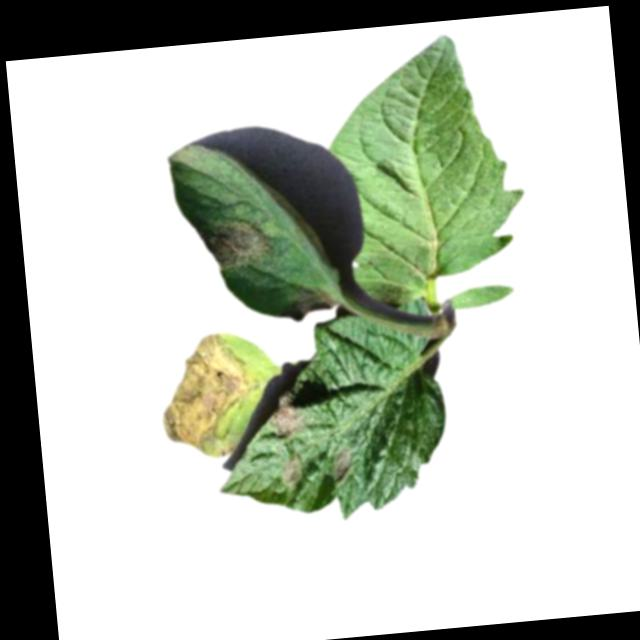Late_blight: (154, 329, 267, 463), (202, 212, 277, 269), (280, 284, 339, 322), (268, 390, 306, 439), (279, 453, 306, 487), (330, 445, 355, 481)
healthy: (318, 30, 533, 320)
